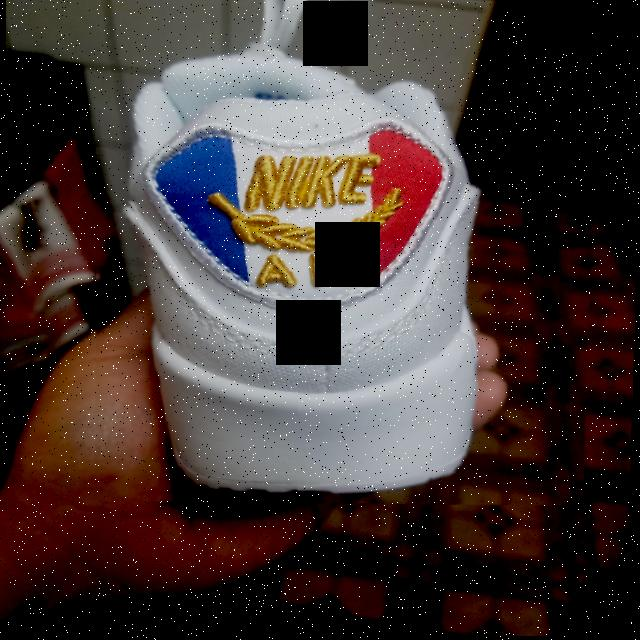shoe: (85, 34, 598, 509)
